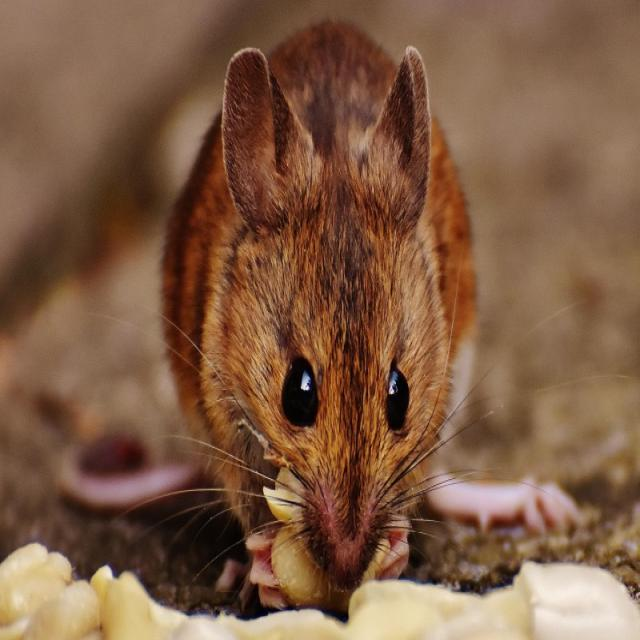rat: (120, 13, 577, 615)
